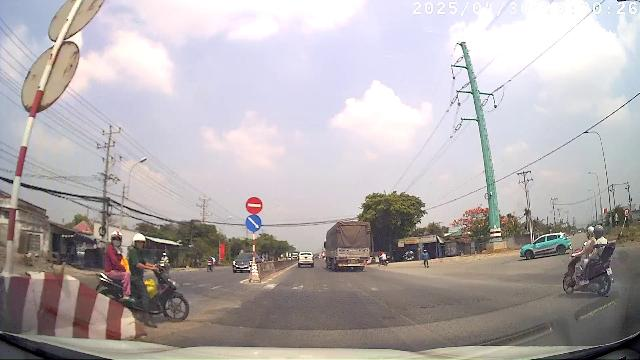102-cam-di-nguoc-chieu: (246, 196, 262, 214)
302a-huong-phai-di-vong-chuong-ngai-vat-1: (246, 214, 262, 232)
